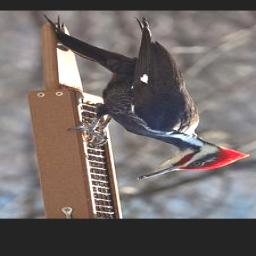Woodpecker: (43, 15, 253, 181)
